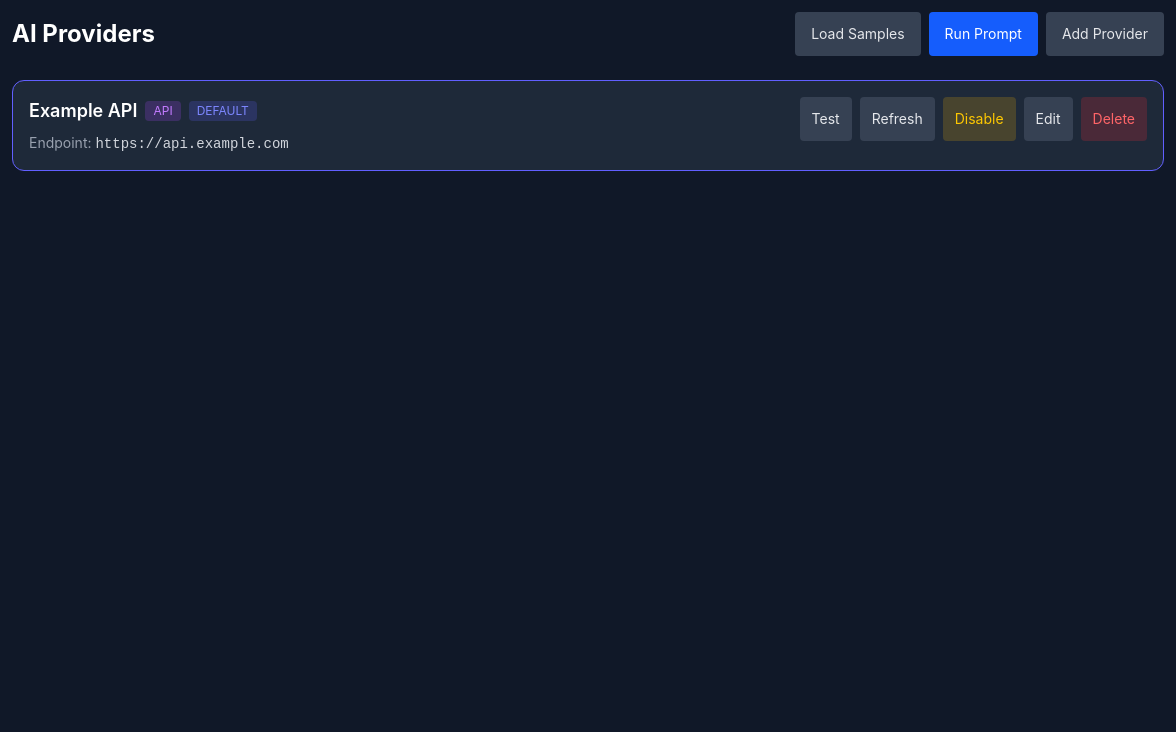
joins validation errors when a provider write is rejected
The width and height of the screenshot is (1176, 732).
Click the button "Disable": (979, 119) x1=943 y1=97 x2=1016 y2=141
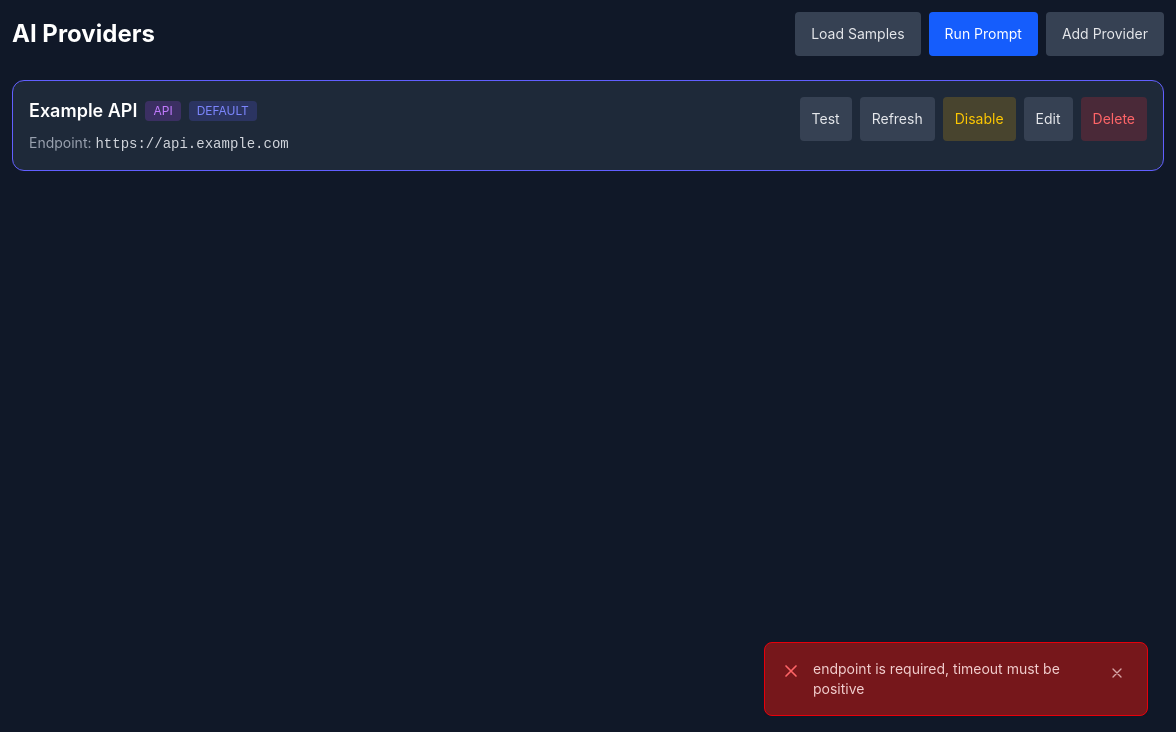
Expected: the message reads "endpoint is required, timeout must be positive", x1=813 y1=660 x2=1060 y2=697
